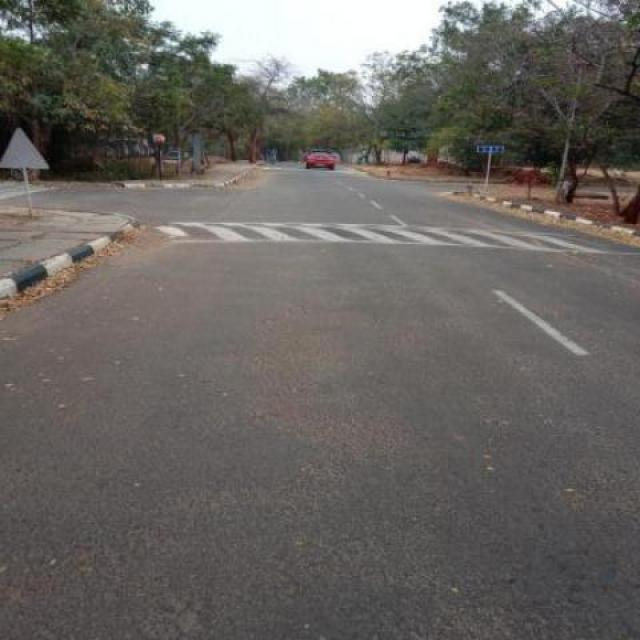Speed Bump: (130, 222, 640, 245)
